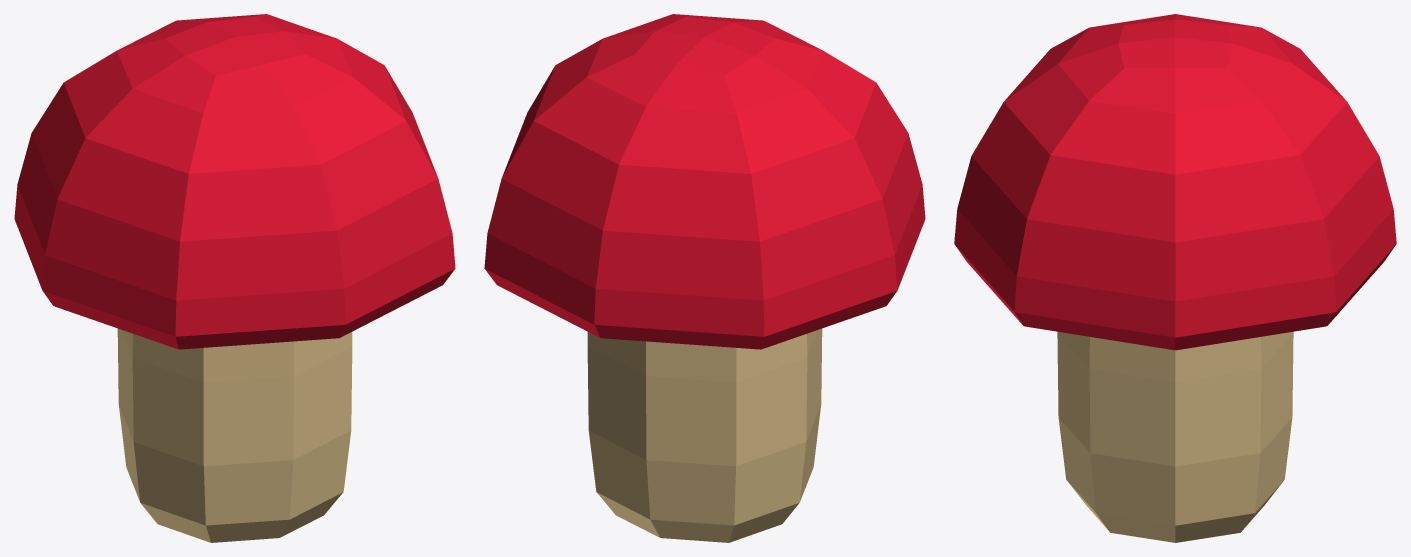
Rendered from mushroom1.fbx.
The picture shows the model from 3 angles, left to right: view 1: azimuth 30°, elevation 25°; view 2: azimuth 150°, elevation 25°; view 3: azimuth 270°, elevation 25°; orthographic projection.
Parts seen in each view (by area): view 1: Cube.001; view 2: Cube.001; view 3: Cube.001.
Boxes of the visible parts, x1,y1,x2,y2 form: Cube.001: (14,14,455,542); Cube.001: (484,14,925,542); Cube.001: (954,14,1396,542).
Size of the model in its own units: 106 by 124 by 106.
